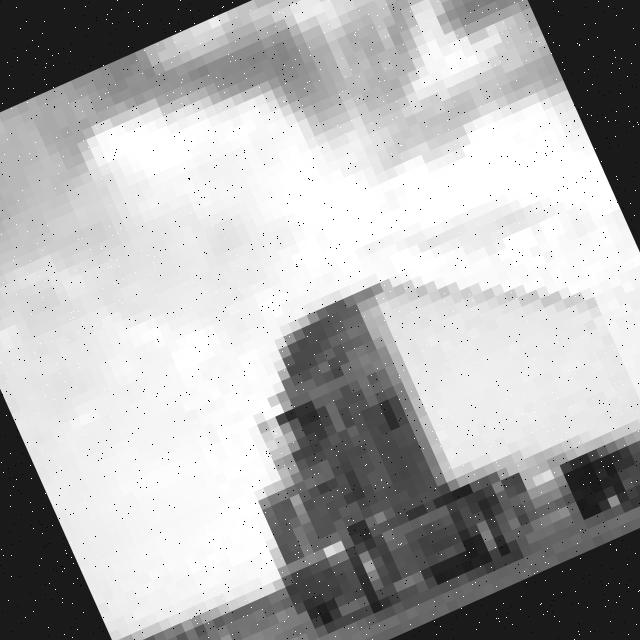trucks: (176, 191, 640, 640)
